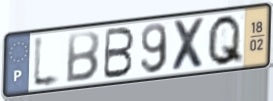9: (140, 21, 169, 75)
B: (64, 29, 102, 84), (101, 26, 136, 81)
L: (31, 31, 63, 91)
Q: (205, 13, 245, 69)
X: (170, 15, 208, 73)
